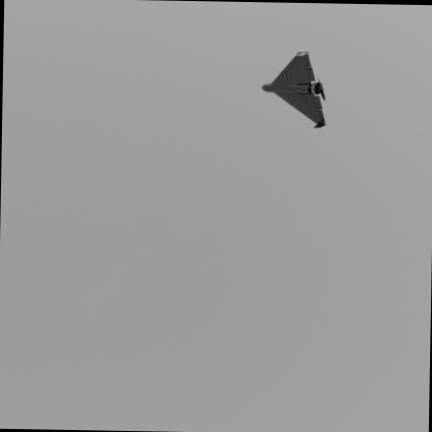Shahed: (261, 51, 324, 125)
